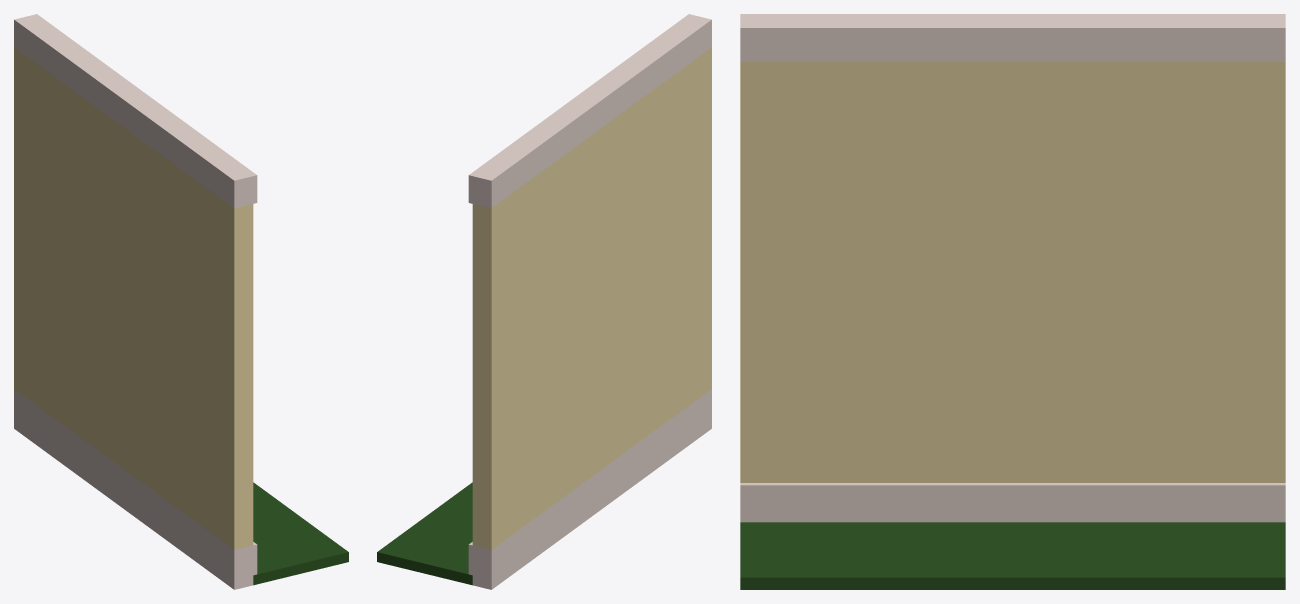
Rendered from Wall.fbx.
The picture shows the model from 3 angles, left to right: view 1: azimuth 30°, elevation 25°; view 2: azimuth 150°, elevation 25°; view 3: azimuth 270°, elevation 25°; orthographic projection. The views are drawn at different scales.
Parts seen in each view (by area): view 1: Wall; view 2: Wall; view 3: Wall.
Part boxes in pixels (x1,y1,x2,y2): Wall: (14,14,348,589); Wall: (377,14,711,589); Wall: (740,14,1285,589).
Bounding box in the file's own units: 60 × 205 × 200.
